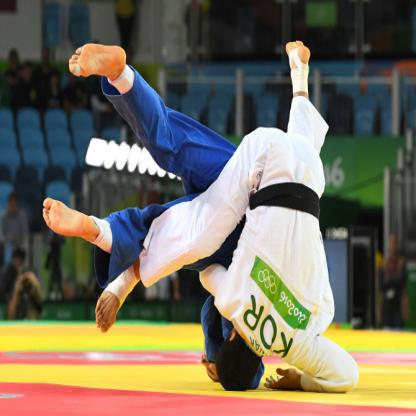Fall_Down: (96, 40, 360, 395)
